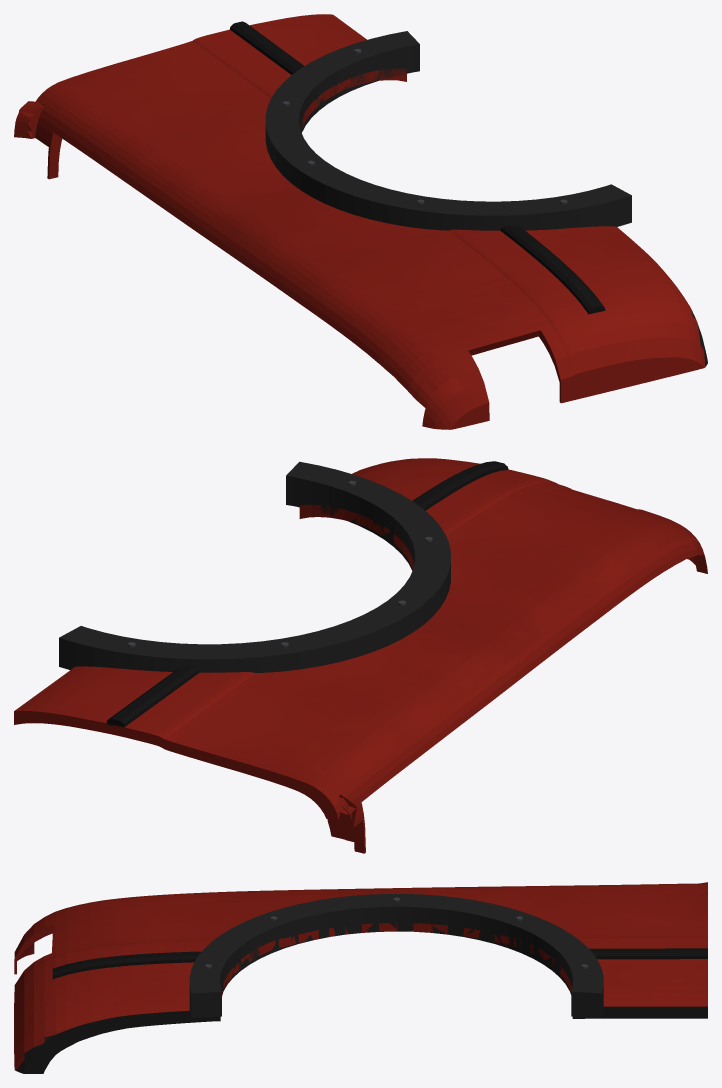
Rendered from paralama_e_picape.glb.
The picture shows the model from 3 angles, top to bottom: view 1: azimuth 30°, elevation 25°; view 2: azimuth 150°, elevation 25°; view 3: azimuth 270°, elevation 25°; orthographic projection. The views are drawn at different scales.
Parts seen in each view (by area): view 1: paralama_e_picape_pintura, paralama_e_picape_plastico_preto, paralama_e_picape_borracha; view 2: paralama_e_picape_pintura, paralama_e_picape_plastico_preto, paralama_e_picape_borracha; view 3: paralama_e_picape_pintura, paralama_e_picape_plastico_preto, paralama_e_picape_chassi, paralama_e_picape_borracha.
Boxes of the visible parts, x1,y1,x2,y2 form: paralama_e_picape_pintura: [14, 14, 705, 429]; paralama_e_picape_plastico_preto: [265, 31, 631, 230]; paralama_e_picape_borracha: [230, 21, 605, 314]; paralama_e_picape_pintura: [14, 458, 707, 853]; paralama_e_picape_plastico_preto: [59, 461, 450, 672]; paralama_e_picape_borracha: [106, 461, 508, 728]; paralama_e_picape_pintura: [14, 882, 707, 1070]; paralama_e_picape_plastico_preto: [189, 894, 603, 1018]; paralama_e_picape_chassi: [16, 1006, 707, 1073]; paralama_e_picape_borracha: [52, 948, 707, 979].
Bounding box in the file's own units: 0.7505 × 0.209 × 1.47.
Materials: 5 (1 with a texture image).
